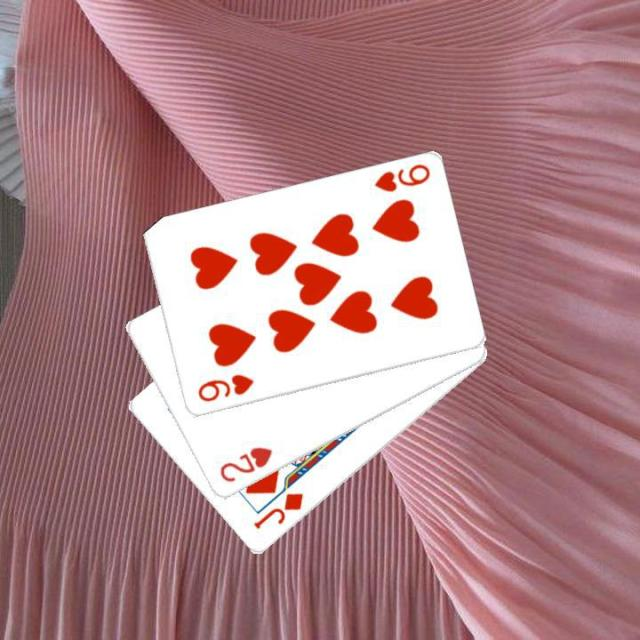2H: (215, 442, 275, 484)
9H: (370, 160, 432, 195), (193, 370, 255, 404)
JD: (250, 489, 306, 531)
